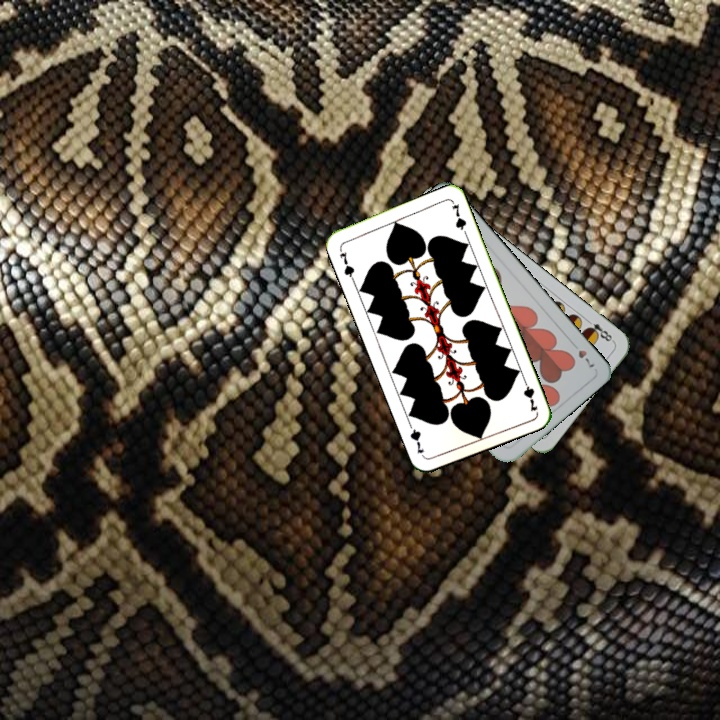E8: (582, 315, 617, 345)
G7: (335, 244, 357, 283), (519, 374, 540, 414)
H7: (567, 337, 598, 371)
